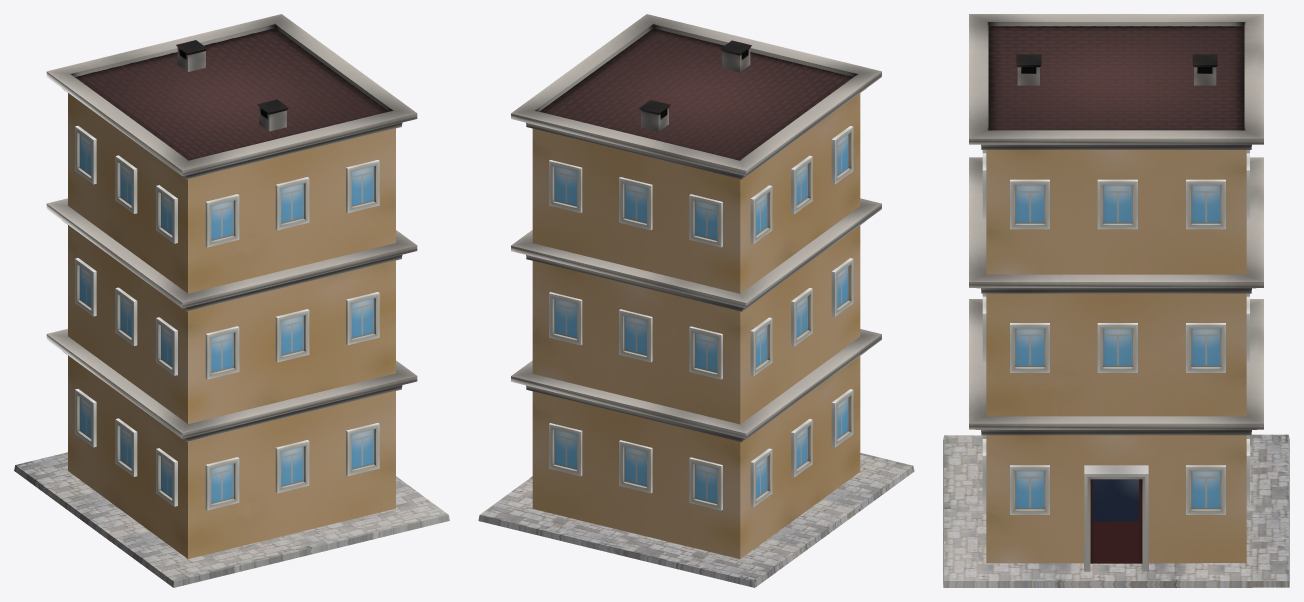
The model's file is classic-building2.fbx.
3 renders of one model, left to right at view 1: azimuth 30°, elevation 25°; view 2: azimuth 150°, elevation 25°; view 3: azimuth 270°, elevation 25°, orthographic. The views are drawn at different scales.
Parts seen in each view (by area): view 1: flat_roof2, wallls_cb, wallls_cb_1, wallls_cb_2, sidewalk, flat_roof2_1, flat_roof, window_cb_31, window_cb_29, window_cb_20, window_cb_18, window_cb_8 (+15 smaller); view 2: flat_roof2, wallls_cb, wallls_cb_1, wallls_cb_2, sidewalk, flat_roof2_1, flat_roof, window_cb_25, window_cb, window_cb_24, window_cb_3, window_cb_14 (+15 smaller); view 3: flat_roof2, wallls_cb_1, wallls_cb_2, wallls_cb, sidewalk, flat_roof2_1, flat_roof, door_cb, window_cb_15, window_cb_26, window_cb_17, window_cb_16 (+6 smaller).
Boxes of the visible parts, left/top/right/bottom form: flat_roof2: left=46, top=14, right=417, bottom=179; wallls_cb: left=68, top=355, right=395, bottom=558; wallls_cb_1: left=68, top=93, right=395, bottom=293; wallls_cb_2: left=68, top=225, right=395, bottom=423; sidewalk: left=14, top=452, right=449, bottom=587; flat_roof2_1: left=46, top=198, right=417, bottom=311; flat_roof: left=46, top=329, right=417, bottom=441; window_cb_31: left=205, top=326, right=239, bottom=379; window_cb_29: left=275, top=309, right=309, bottom=362; window_cb_20: left=205, top=194, right=239, bottom=247; window_cb_18: left=275, top=177, right=309, bottom=230; window_cb_8: left=205, top=457, right=239, bottom=510; flat_roof2: left=511, top=14, right=881, bottom=179; wallls_cb: left=532, top=356, right=860, bottom=558; wallls_cb_1: left=532, top=93, right=860, bottom=293; wallls_cb_2: left=532, top=225, right=860, bottom=424; sidewalk: left=478, top=453, right=914, bottom=587; flat_roof2_1: left=511, top=198, right=881, bottom=311; flat_roof: left=511, top=329, right=881, bottom=442; window_cb_25: left=549, top=292, right=582, bottom=345; window_cb: left=619, top=440, right=652, bottom=493; window_cb_24: left=689, top=326, right=722, bottom=379; window_cb_3: left=619, top=309, right=652, bottom=362; window_cb_14: left=549, top=160, right=582, bottom=213; flat_roof2: left=969, top=14, right=1263, bottom=149; wallls_cb_1: left=986, top=150, right=1246, bottom=274; wallls_cb_2: left=986, top=293, right=1246, bottom=416; wallls_cb: left=986, top=435, right=1246, bottom=563; sidewalk: left=943, top=434, right=1289, bottom=587; flat_roof2_1: left=969, top=157, right=1263, bottom=293; flat_roof: left=969, top=299, right=1263, bottom=435; door_cb: left=1084, top=465, right=1148, bottom=571; window_cb_15: left=1097, top=179, right=1137, bottom=229; window_cb_26: left=1097, top=323, right=1137, bottom=372; window_cb_17: left=1010, top=179, right=1049, bottom=229; window_cb_16: left=1186, top=179, right=1225, bottom=229.
Bounding box in the file's own units: 787 × 1142 × 787.
6 materials, 6 textured.
